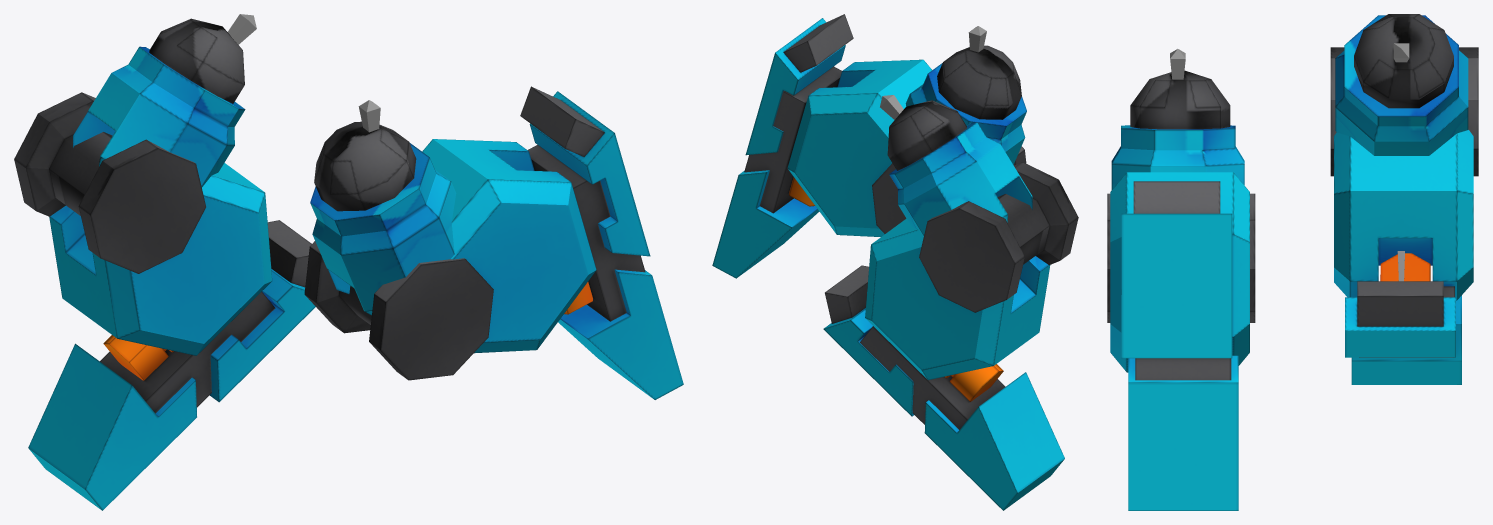
File: Bottom_Running3.obj
3 views of the same model, side by side, from view 1: azimuth 30°, elevation 25°; view 2: azimuth 150°, elevation 25°; view 3: azimuth 270°, elevation 25° (orthographic). The views are drawn at different scales.
Parts seen in each view (by area): view 1: Object010, Object013, Object011, Object014, Object012, Object009; view 2: Object010, Object011, Object013, Object014, Object009, Object012; view 3: Object014, Object010, Object009, Object011, Object012, Object013, Bone023.
Boxes of the visible parts, box(x1,y1,x2,y2) form: Object010: box(14, 92, 272, 355); Object013: box(304, 139, 596, 380); Object011: box(28, 220, 315, 510); Object014: box(520, 86, 683, 399); Object012: box(310, 121, 456, 315); Object009: box(73, 18, 245, 187); Object010: box(865, 162, 1078, 380); Object011: box(823, 265, 1064, 510); Object013: box(787, 59, 1026, 236); Object014: box(712, 14, 853, 278); Object009: box(887, 100, 1032, 236); Object012: box(905, 45, 1026, 164); Object014: box(1121, 181, 1238, 510); Object010: box(1330, 47, 1478, 300); Object009: box(1335, 14, 1468, 155); Object011: box(1345, 253, 1461, 384); Object012: box(1111, 70, 1244, 189); Object013: box(1107, 172, 1255, 372); Bone023: box(1170, 49, 1185, 79).
Size of the model in its own units: 139 by 119 by 94.84.
